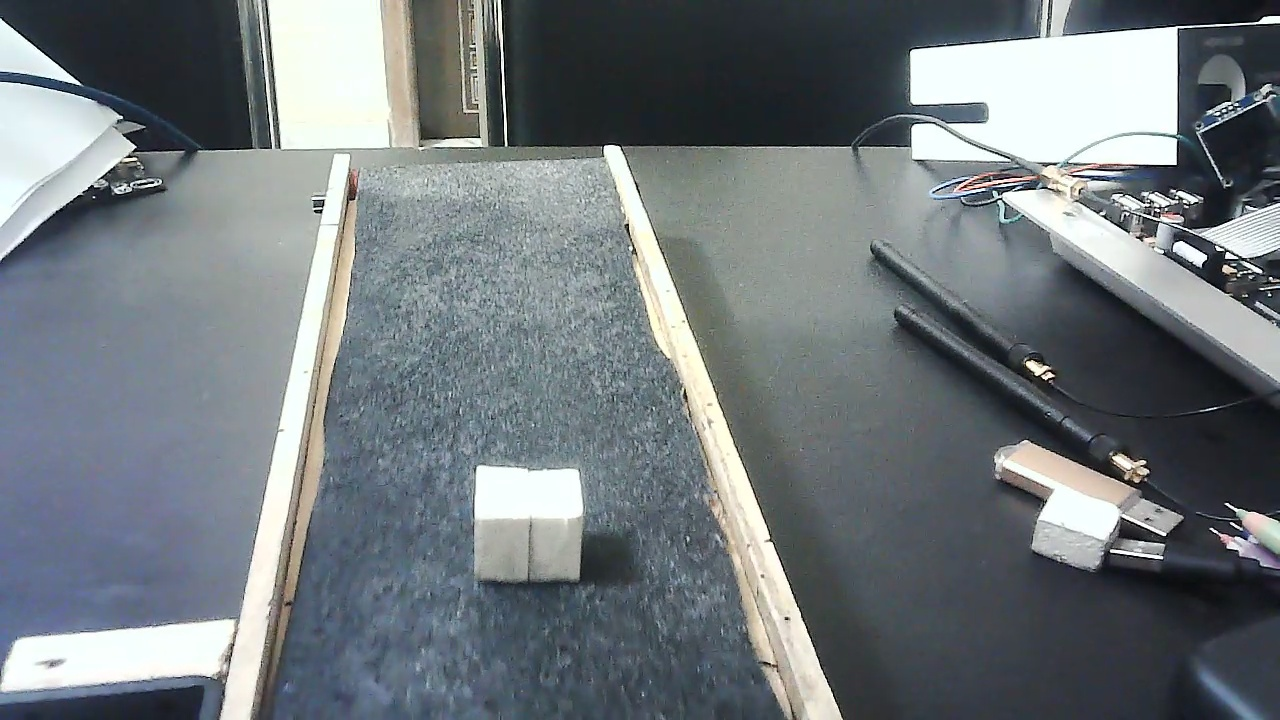Small: (469, 466, 586, 583)
